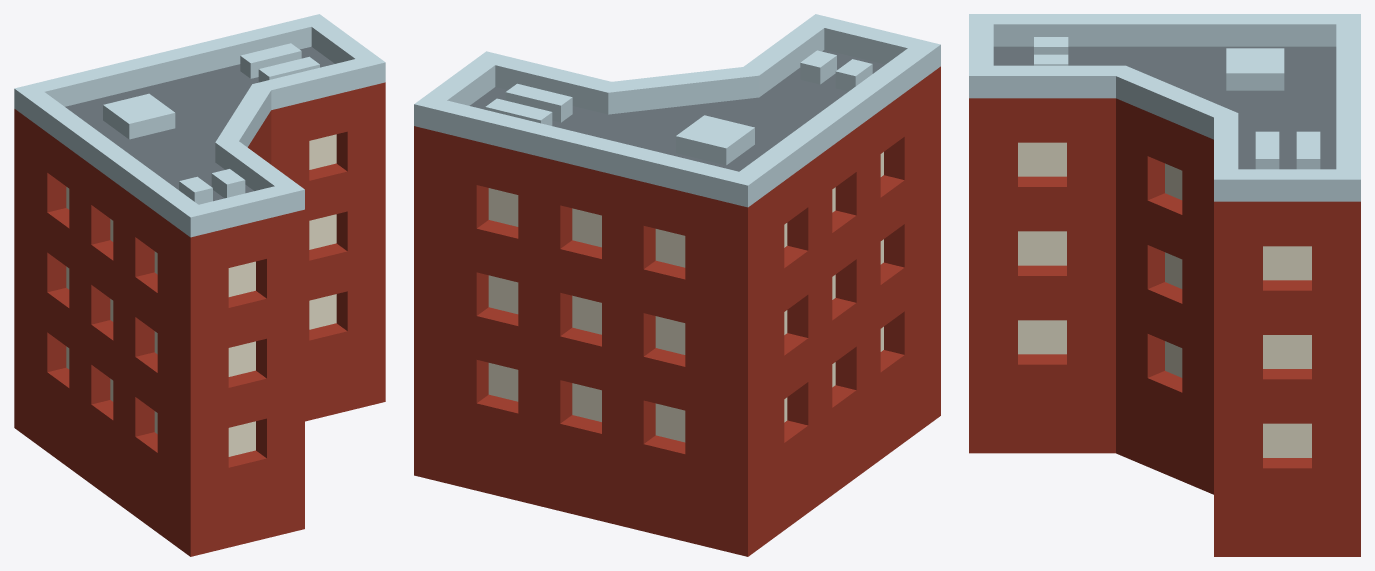
The model's file is Building_8_Extra (Red).obj.
3 renders of one model, left to right at view 1: azimuth 30°, elevation 25°; view 2: azimuth 150°, elevation 25°; view 3: azimuth 270°, elevation 25°, orthographic. The views are drawn at different scales.
Visible parts, largest first — view 1: Building_8_Extra_(Red); view 2: Building_8_Extra_(Red); view 3: Building_8_Extra_(Red).
Boxes of the visible parts, x1,y1,x2,y2 form: Building_8_Extra_(Red): (14,14,385,556); Building_8_Extra_(Red): (414,14,940,556); Building_8_Extra_(Red): (969,14,1360,556).
Bounding box in the file's own units: 1.6 × 1.7 × 1.6.
